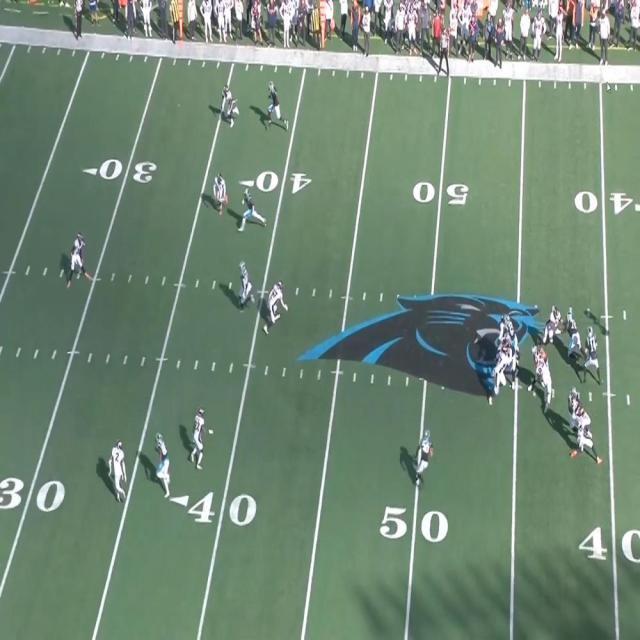db: (111, 442, 126, 500), (194, 406, 207, 464), (72, 232, 86, 282), (217, 172, 228, 215), (225, 86, 236, 126)
lb: (270, 283, 284, 328)
qb: (586, 328, 598, 385)
skill: (153, 430, 170, 490), (419, 432, 435, 483), (242, 190, 257, 230), (270, 82, 283, 128), (239, 260, 250, 308)
